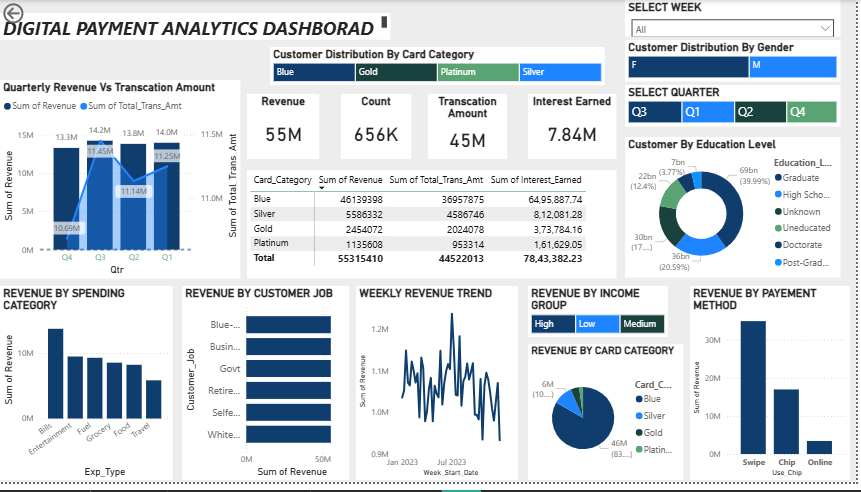

What the dashboard file says about the page in this screenshot:
{"tool":"powerbi","page":{"name":"Transcation Report","canvas":[1280,720],"ordinal":1},"visuals":[{"type":"textbox","box":[0,20,583.3,40],"z":0},{"type":"lineStackedColumnComboChart","title":"Quarterly Revenue Vs Transcation Amount","fields":{"Category":["ccdb cc_detail.Qtr"],"Y":["Sum(ccdb cc_detail.Revenue)"],"Y2":["Sum(ccdb cc_detail.Total_Trans_Amt)"]},"box":[0,118.9,358.9,296.7],"z":1000},{"type":"lineChart","title":"WEEKLY REVENUE TREND","fields":{"Y":["Sum(ccdb cc_detail.Revenue)"],"Category":["ccdb cc_detail.Week_Start_Date"]},"box":[531.7,426.7,241.7,290],"z":2000},{"type":"clusteredColumnChart","title":"REVENUE BY SPENDING CATEGORY","fields":{"Category":["ccdb cc_detail.Exp_Type"],"Y":["Sum(ccdb cc_detail.Revenue)"]},"box":[0,426.7,258.3,290],"z":3000},{"type":"donutChart","title":"Customer By Education Level","fields":{"Category":["ccdb cust_detail.Education_Level"],"Y":["Sum(ccdb cust_detail.Client_Num)"]},"box":[933.3,205,321.7,210],"z":4000},{"type":"clusteredBarChart","title":"REVENUE BY CUSTOMER JOB","fields":{"Category":["ccdb cust_detail.Customer_Job"],"Y":["Sum(ccdb cc_detail.Revenue)"]},"box":[271.7,426.7,250,290],"z":5000},{"type":"pieChart","title":"REVENUE BY CARD CATEGORY","fields":{"Category":["ccdb cc_detail.Card_Category"],"Y":["Sum(ccdb cc_detail.Revenue)"]},"box":[788.3,513.3,231.7,203.3],"z":6000},{"type":"clusteredColumnChart","title":"REVENUE BY PAYEMENT METHOD","fields":{"Category":["ccdb cc_detail.Use_Chip"],"Y":["Sum(ccdb cc_detail.Revenue)"]},"box":[1030,426.7,238.9,290],"z":7000},{"type":"pivotTable","fields":{"Rows":["ccdb cc_detail.Card_Category"],"Values":["Sum(ccdb cc_detail.Revenue)","Sum(ccdb cc_detail.Total_Trans_Amt)","Sum(ccdb cc_detail.Interest_Earned)"]},"box":[368.3,253.3,551.7,161.7],"z":8000},{"type":"actionButton","box":[0,0,100,40],"z":9000},{"type":"card","title":"Revenue","fields":{"Values":["Sum(ccdb cc_detail.Revenue)"]},"box":[368.3,140,108.3,96.7],"z":10000},{"type":"card","title":"Count","fields":{"Values":["Sum(ccdb cc_detail.Total_Trans_Ct)"]},"box":[510,140,105,96.7],"z":11000},{"type":"card","title":"Transcation Amount","fields":{"Values":["Sum(ccdb cc_detail.Total_Trans_Amt)"]},"box":[640,140,118.3,96.7],"z":12000},{"type":"card","title":"Interest Earned","fields":{"Values":["Sum(ccdb cc_detail.Interest_Earned)"]},"box":[788.3,140,131.7,96.7],"z":13000},{"type":"slicer","title":"SELECT WEEK","fields":{"Values":["ccdb cc_detail.Week_Start_Date"]},"box":[933.3,0,321.7,55],"z":14000},{"type":"treemap","title":"SELECT QUARTER","fields":{"Group":["ccdb cc_detail.Qtr"],"Values":["Sum(ccdb cc_detail.Revenue)"]},"box":[933.3,126.7,321.7,61.7],"z":15000},{"type":"treemap","title":"Customer Distribution By  Gender","fields":{"Group":["ccdb cust_detail.Gender"],"Values":["Sum(ccdb cust_detail.Client_Num)"]},"box":[933.3,60,321.7,61.7],"z":16000},{"type":"treemap","title":"Customer Distribution By Card Category","fields":{"Group":["ccdb cc_detail.Card_Category"],"Values":["Sum(ccdb cust_detail.Client_Num)"]},"box":[403.3,70,500,56.7],"z":17000},{"type":"treemap","title":"REVENUE BY INCOME GROUP","fields":{"Details":["ccdb cust_detail.IncomeGroup"],"Values":["Sum(ccdb cc_detail.Revenue)"]},"box":[788.9,426.7,208.9,75.6],"z":18000}]}

Visuals, with their boxes in screenshot pixels (x1, y1, x2, y2), scaled from the page's 1280x720 canvas onto the 861x492 screenshot:
textbox: 0, 14, 392, 41
"Quarterly Revenue Vs Transcation Amount" lineStackedColumnComboChart: 0, 81, 241, 284
"WEEKLY REVENUE TREND" lineChart: 358, 292, 520, 490
"REVENUE BY SPENDING CATEGORY" clusteredColumnChart: 0, 292, 174, 490
"Customer By Education Level" donutChart: 628, 140, 844, 284
"REVENUE BY CUSTOMER JOB" clusteredBarChart: 183, 292, 351, 490
"REVENUE BY CARD CATEGORY" pieChart: 530, 351, 686, 490
"REVENUE BY PAYEMENT METHOD" clusteredColumnChart: 693, 292, 854, 490
pivotTable - ccdb cc_detail.Card_Category x Sum(ccdb cc_detail.Revenue): 248, 173, 619, 284
actionButton: 0, 0, 67, 27
"Revenue" card: 248, 96, 321, 162
"Count" card: 343, 96, 414, 162
"Transcation Amount" card: 430, 96, 510, 162
"Interest Earned" card: 530, 96, 619, 162
"SELECT WEEK" slicer: 628, 0, 844, 38
"SELECT QUARTER" treemap: 628, 87, 844, 129
"Customer Distribution By  Gender" treemap: 628, 41, 844, 83
"Customer Distribution By Card Category" treemap: 271, 48, 608, 87
"REVENUE BY INCOME GROUP" treemap: 531, 292, 671, 343
